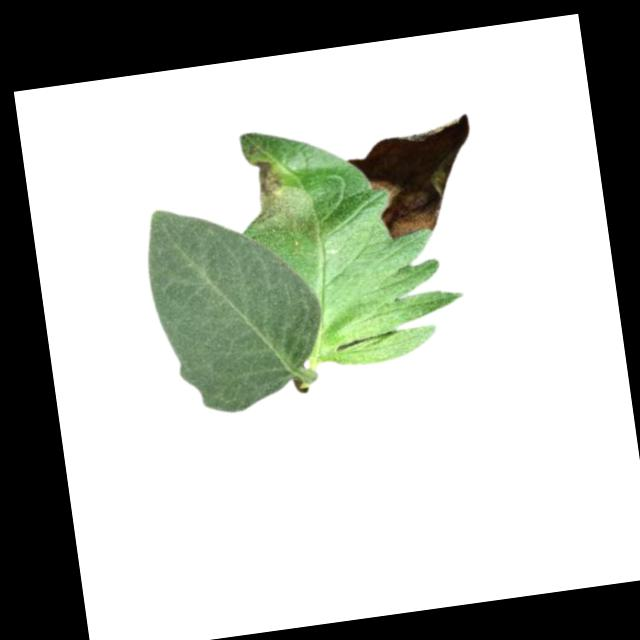Late_blight: (341, 113, 484, 244), (243, 152, 321, 246)
healthy: (139, 188, 335, 423)
